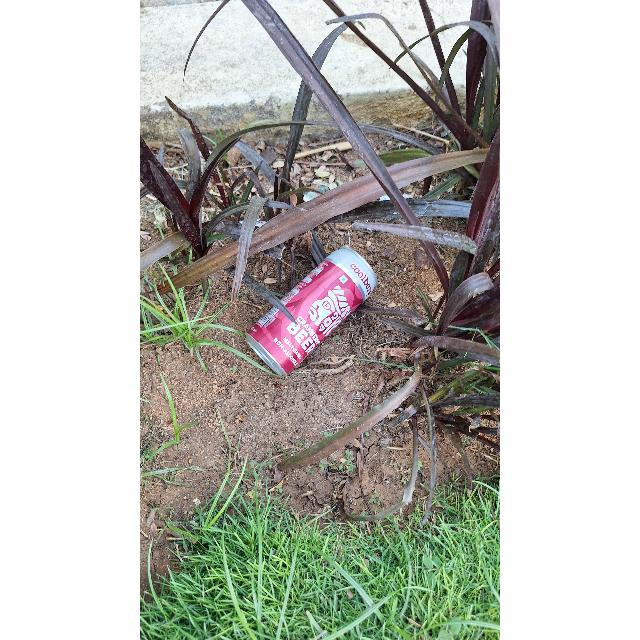Coolberg: (247, 240, 379, 366)
